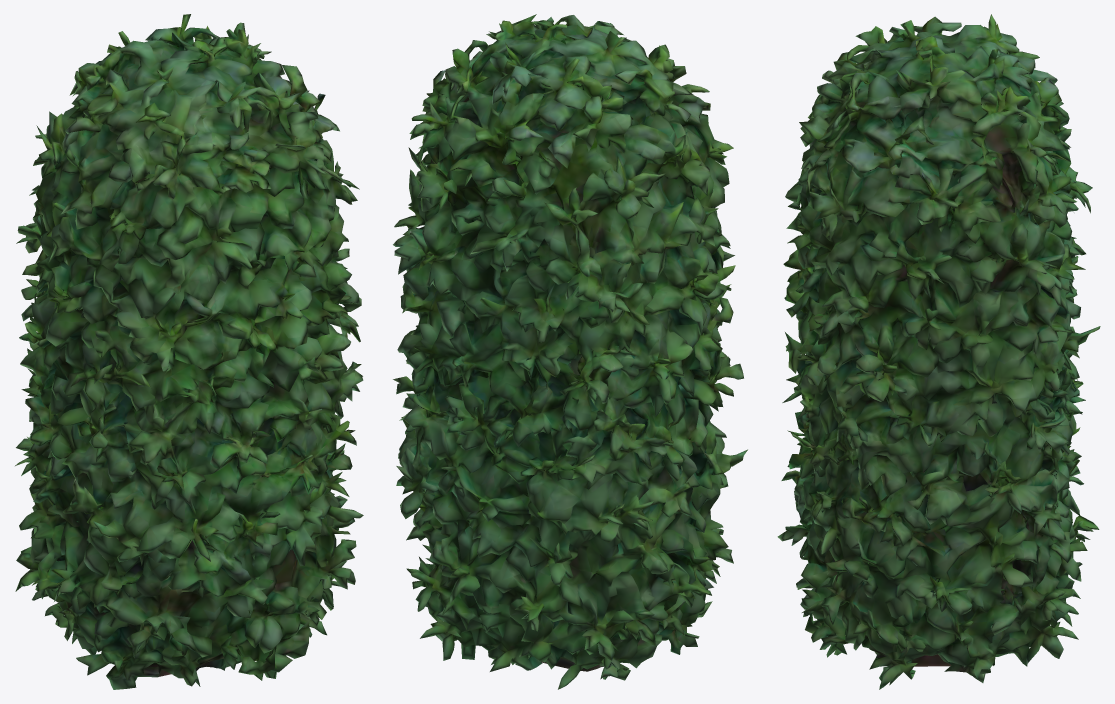
Rendered from arbusto-oval.glb.
3 views of the same model, side by side, from view 1: azimuth 30°, elevation 25°; view 2: azimuth 150°, elevation 25°; view 3: azimuth 270°, elevation 25° (orthographic).
Bounding box in the file's own units: 1.02 × 1.97 × 0.9397.
Materials: 1 (1 with a texture image).
